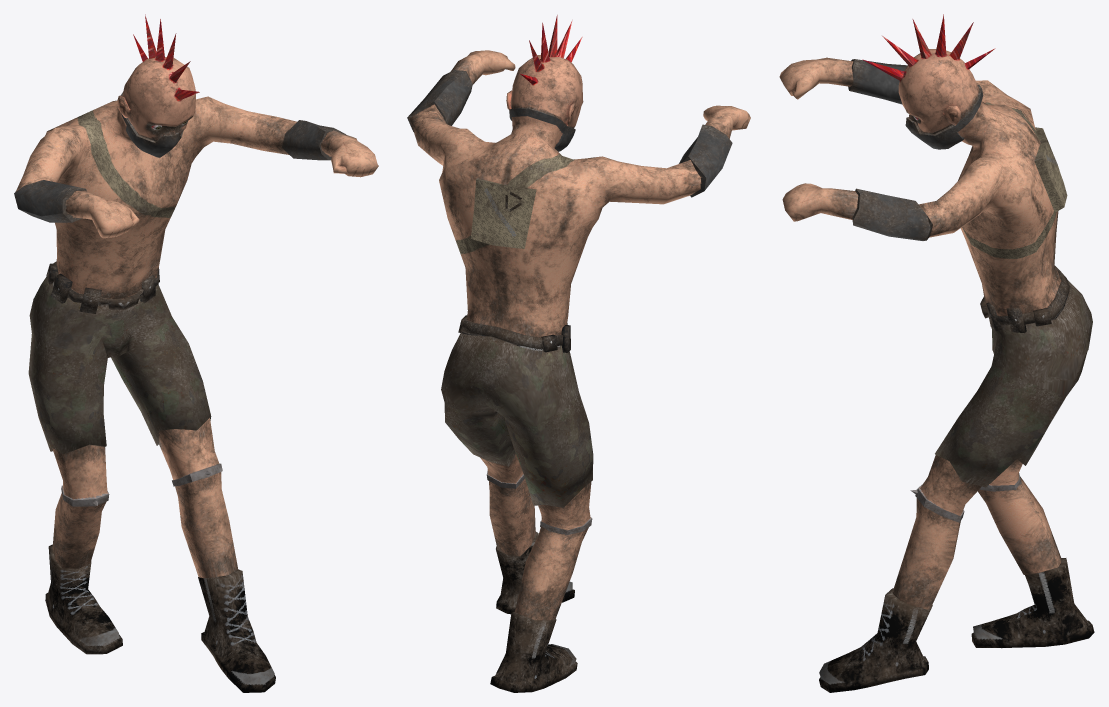
Rendered from Anim_ataque_d3_npc2.0047.obj.
3 views of the same model, side by side, from view 1: azimuth 30°, elevation 25°; view 2: azimuth 150°, elevation 25°; view 3: azimuth 270°, elevation 25° (orthographic). The views are drawn at different scales.
Parts seen in each view (by area): view 1: polySurface1; view 2: polySurface1; view 3: polySurface1.
Boxes of the visible parts, x1,y1,x2,y2 form: polySurface1: [14, 14, 378, 692]; polySurface1: [407, 15, 750, 692]; polySurface1: [779, 14, 1094, 692].
Size of the model in its own units: 4.76 by 9.62 by 4.21.
